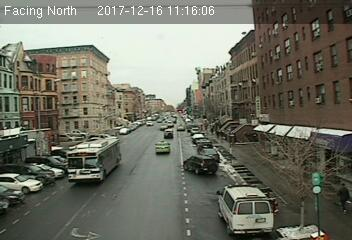bus: (67, 138, 121, 182)
car: (182, 154, 215, 175), (154, 140, 172, 154), (162, 128, 174, 139)
police: (217, 182, 274, 237)
